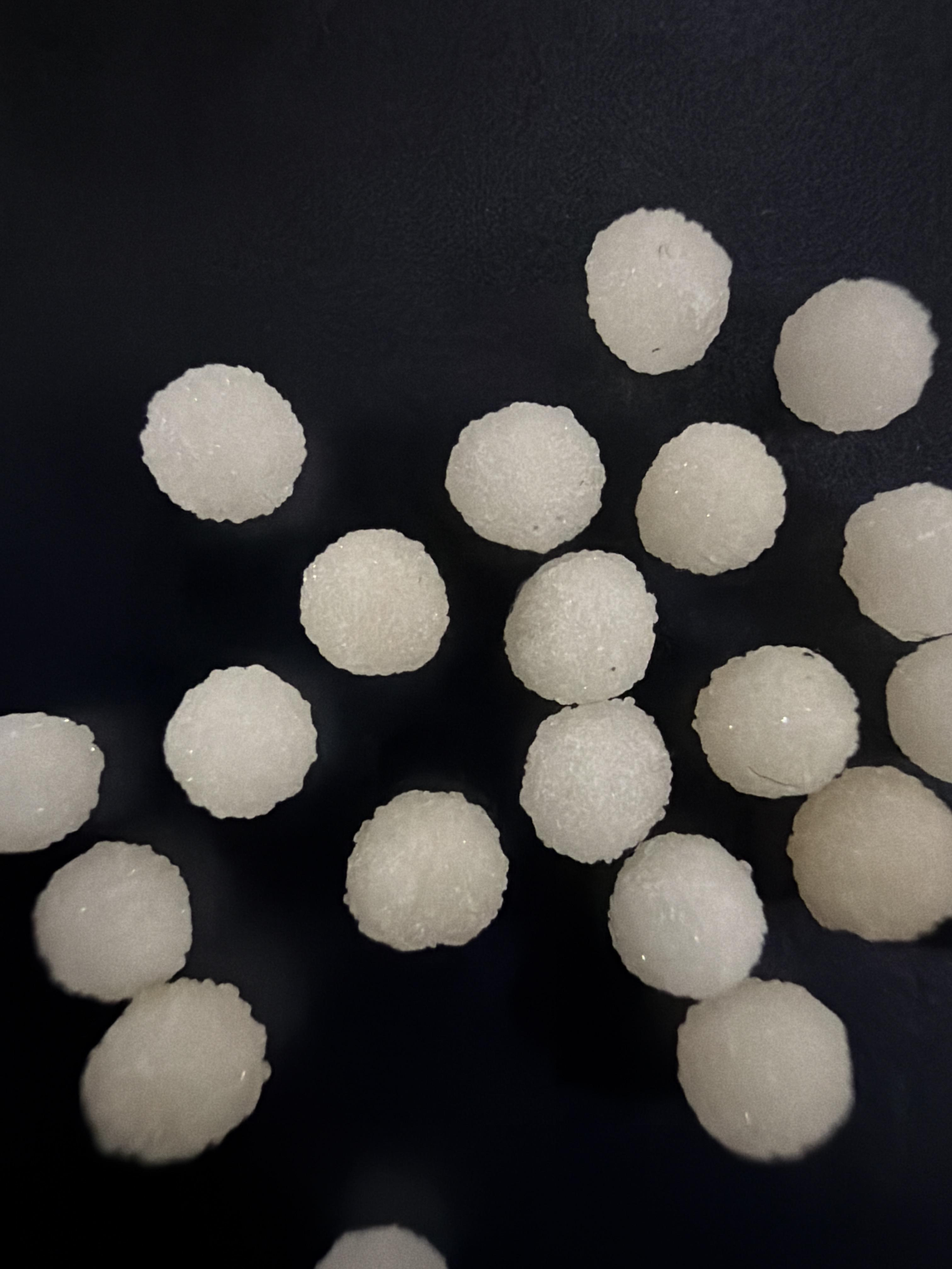pill: (81, 979, 270, 1164), (678, 979, 854, 1161), (787, 766, 952, 940), (344, 791, 507, 951), (609, 833, 766, 999), (141, 364, 305, 522), (33, 841, 192, 1001), (775, 279, 938, 433), (693, 646, 858, 798), (520, 698, 672, 862), (586, 208, 732, 374), (445, 403, 605, 552), (164, 665, 316, 818), (505, 551, 656, 704), (635, 422, 785, 575), (301, 530, 448, 675), (841, 482, 952, 641), (0, 713, 104, 853), (886, 636, 952, 782), (316, 1225, 446, 1269)
